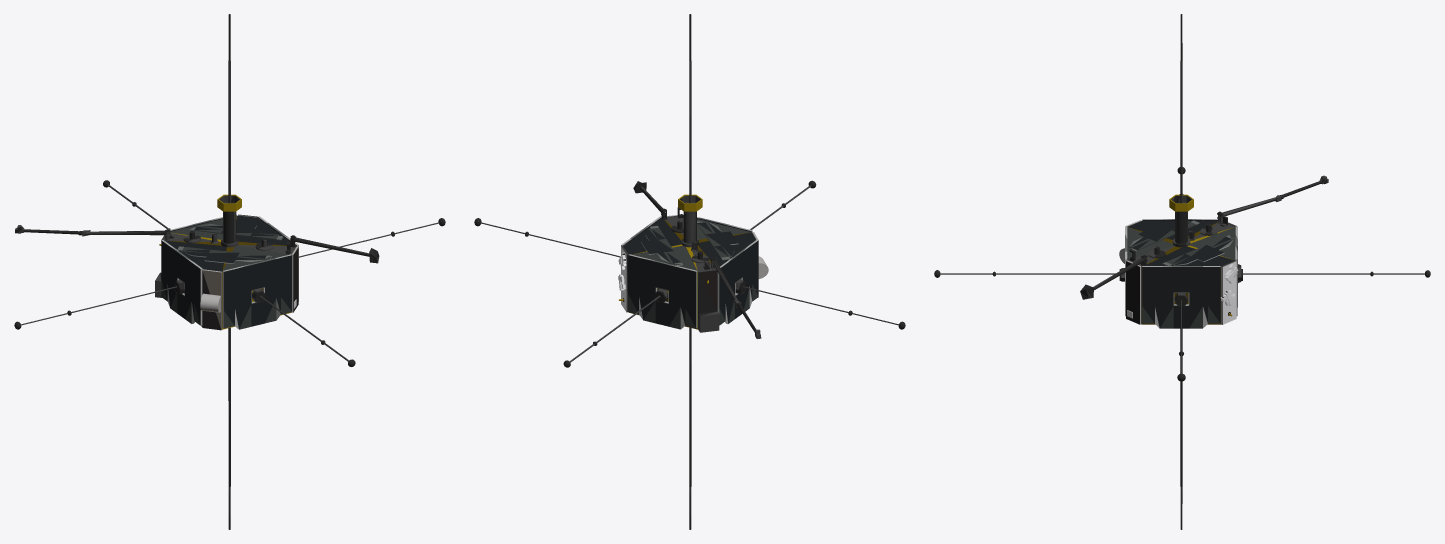
Rendered from themis.glb.
3 renders of one model, left to right at view 1: azimuth 30°, elevation 25°; view 2: azimuth 150°, elevation 25°; view 3: azimuth 270°, elevation 25°, orthographic.
Visible parts, largest first — view 1: solar-panel, foil, body; view 2: solar-panel, foil, body; view 3: solar-panel, foil, body.
Boxes of the visible parts, bbox=[...] form: solar-panel: bbox=[161, 215, 298, 329]; foil: bbox=[14, 14, 445, 529]; body: bbox=[200, 215, 298, 330]; solar-panel: bbox=[621, 215, 758, 329]; foil: bbox=[474, 14, 905, 529]; body: bbox=[618, 215, 768, 311]; solar-panel: bbox=[1125, 219, 1237, 328]; foil: bbox=[934, 14, 1430, 529]; body: bbox=[1119, 220, 1238, 324].
Size of the model in its own units: 3.84 by 4.4 by 3.85.
